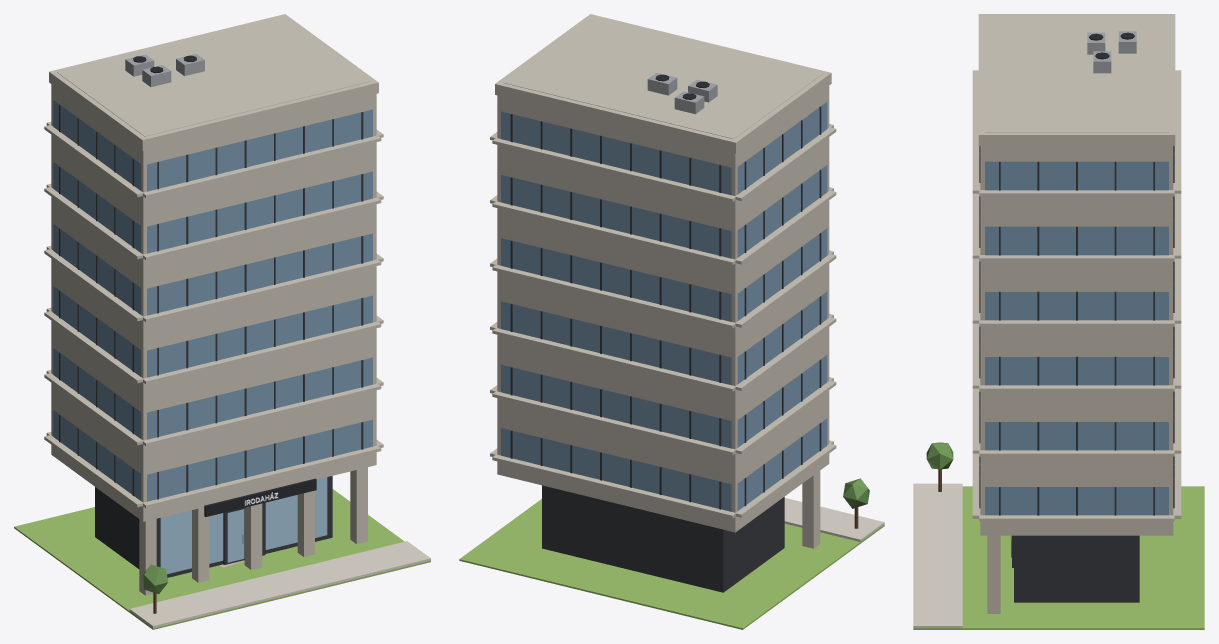
Rendered from Buro_yetmisler_3_Hafif.fbx.
3 views of the same model, side by side, from view 1: azimuth 30°, elevation 25°; view 2: azimuth 150°, elevation 25°; view 3: azimuth 270°, elevation 25° (orthographic). The views are drawn at different scales.
Visible parts, largest first — view 1: Buro_yetmisler_3_Hafif; view 2: Buro_yetmisler_3_Hafif; view 3: Buro_yetmisler_3_Hafif.
Part boxes in pixels (x1,y1,x2,y2): Buro_yetmisler_3_Hafif: [14, 14, 430, 629]; Buro_yetmisler_3_Hafif: [459, 14, 884, 629]; Buro_yetmisler_3_Hafif: [913, 14, 1204, 629].
Bounding box in the file's own units: 15 × 24.52 × 13.
